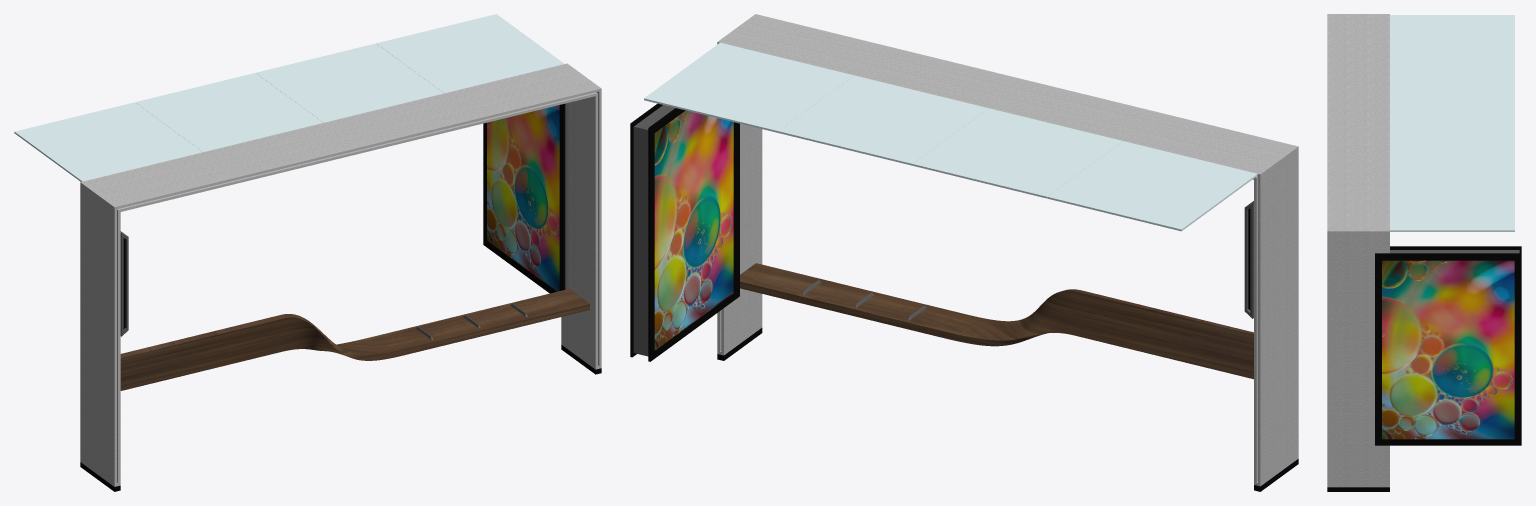
File: ponto.glb
3 renders of one model, left to right at view 1: azimuth 30°, elevation 25°; view 2: azimuth 150°, elevation 25°; view 3: azimuth 270°, elevation 25°, orthographic. The views are drawn at different scales.
Visible parts, largest first — view 1: group_6, group_25, tela_001, group_4, group_5, group_2, group_3, group_14, group_6_004, group_12, group_24; view 2: group_6, group_25, tela_001, group_4, group_5, group_3, group_2, group_12, group_14, group_13, group_24; view 3: group_6, tela, group_2, group_3, group_5, group_4, group_13, group_14, group_12, group_6_005.
Boxes of the visible parts, x1,y1,x2,y2 form: group_6: [80, 63, 601, 486]; group_25: [120, 289, 589, 390]; tela_001: [487, 105, 559, 291]; group_4: [14, 102, 202, 181]; group_5: [135, 73, 323, 152]; group_2: [376, 14, 564, 93]; group_3: [256, 43, 443, 122]; group_14: [483, 103, 565, 293]; group_6_004: [117, 91, 599, 483]; group_12: [565, 103, 568, 289]; group_24: [120, 231, 128, 336]; group_6: [717, 14, 1298, 486]; group_25: [740, 263, 1253, 379]; tela_001: [654, 110, 733, 350]; group_4: [1047, 141, 1257, 231]; group_5: [912, 108, 1122, 198]; group_3: [778, 75, 988, 165]; group_2: [644, 42, 853, 132]; group_12: [633, 105, 674, 356]; group_14: [648, 108, 739, 361]; group_13: [630, 103, 662, 357]; group_24: [1244, 201, 1253, 318]; group_6: [1327, 14, 1389, 487]; tela: [1382, 260, 1514, 439]; group_2: [1390, 176, 1514, 231]; group_3: [1390, 122, 1514, 176]; group_5: [1390, 69, 1514, 122]; group_4: [1390, 15, 1514, 68]; group_13: [1375, 253, 1521, 445]; group_14: [1390, 246, 1521, 253]; group_12: [1390, 250, 1519, 253]; group_6_005: [1327, 487, 1389, 491].
Size of the model in its own units: 4.15 by 2.29 by 1.55.
Materials: 69 (30 with a texture image).
